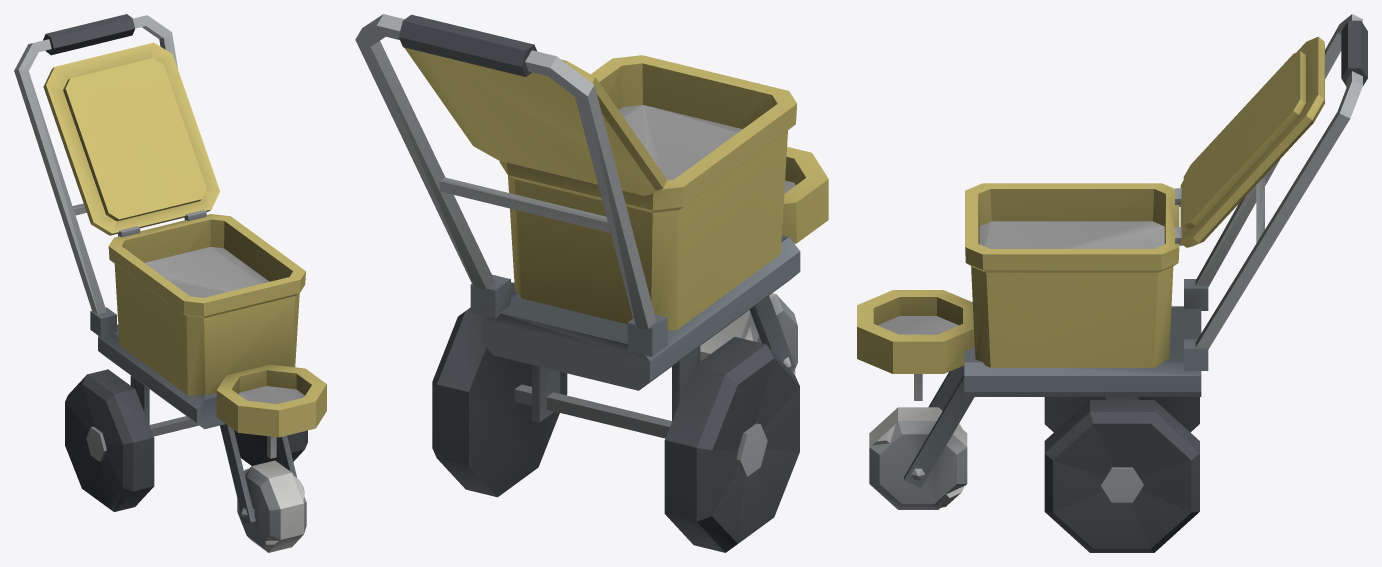
The model's file is linecart.glb.
The picture shows the model from 3 angles, left to right: view 1: azimuth 30°, elevation 25°; view 2: azimuth 150°, elevation 25°; view 3: azimuth 270°, elevation 25°; orthographic projection. The views are drawn at different scales.
Visible parts, largest first — view 1: linecart; view 2: linecart; view 3: linecart.
Part boxes in pixels (x1,y1,x2,y2): linecart: (14, 14, 326, 552); linecart: (355, 14, 828, 552); linecart: (857, 14, 1367, 552).
Bounding box in the file's own units: 0.6 × 1.19 × 1.2.
